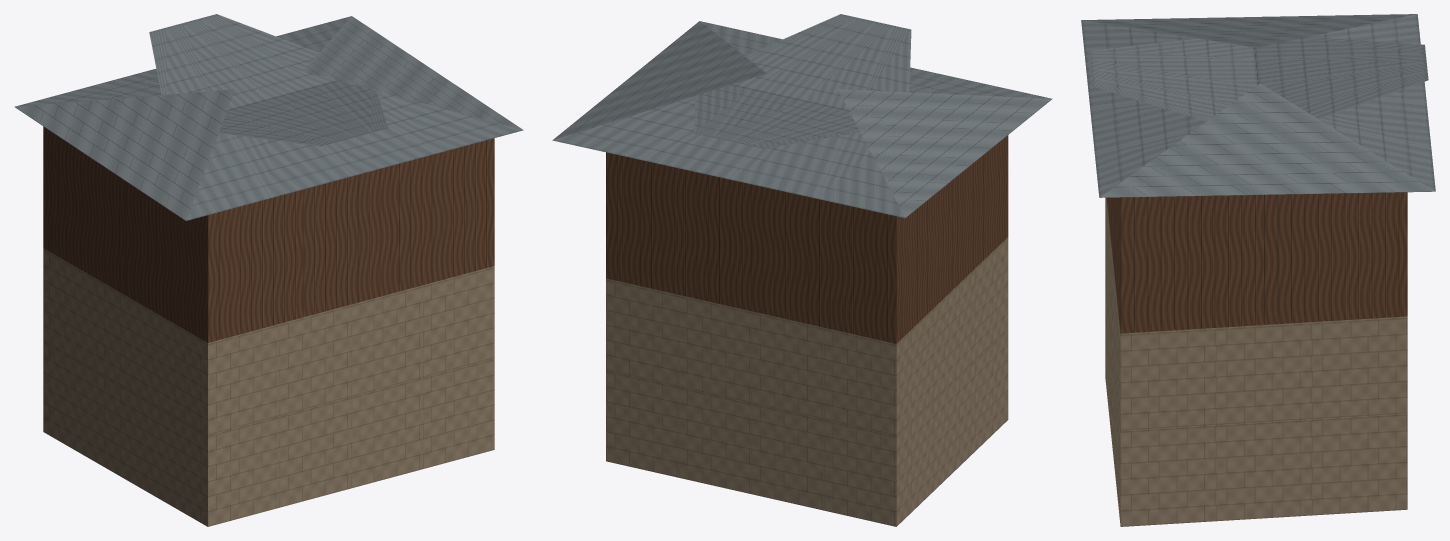
File: bld_c40_32_292.gltf
3 views of the same model, side by side, from view 1: azimuth 30°, elevation 25°; view 2: azimuth 150°, elevation 25°; view 3: azimuth 270°, elevation 25° (orthographic). The views are drawn at different scales.
Parts seen in each view (by area): view 1: bld_c40_32_292; view 2: bld_c40_32_292; view 3: bld_c40_32_292.
Boxes of the visible parts, box(x1,y1,x2,y2) form: bld_c40_32_292: box(14, 14, 523, 526); bld_c40_32_292: box(552, 14, 1052, 526); bld_c40_32_292: box(1081, 14, 1435, 526).
Bounding box in the file's own units: 9.77 × 9.4 × 7.97.
Materials: 3 (3 with a texture image).
